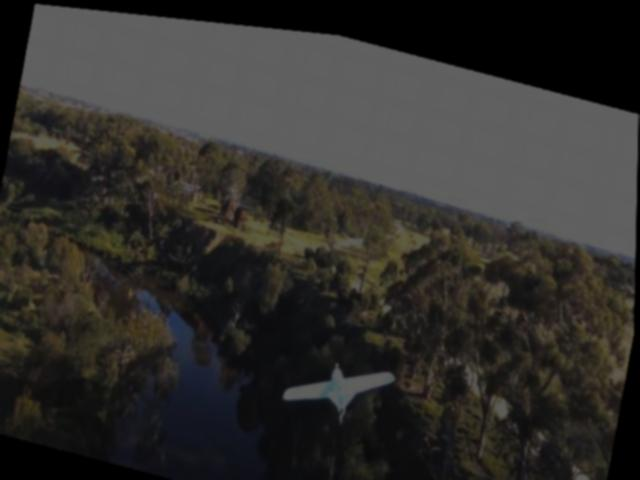iha: (278, 334, 404, 425)
